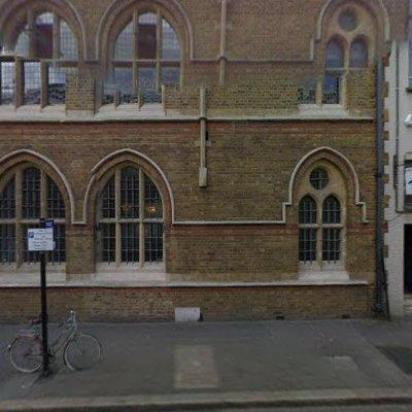stationary-bicycle-onstreet: (5, 306, 105, 376)
